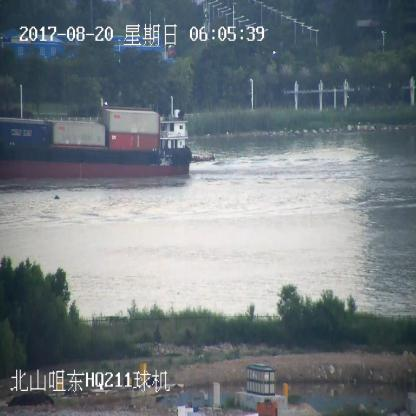Container Ship: (0, 108, 192, 182)
